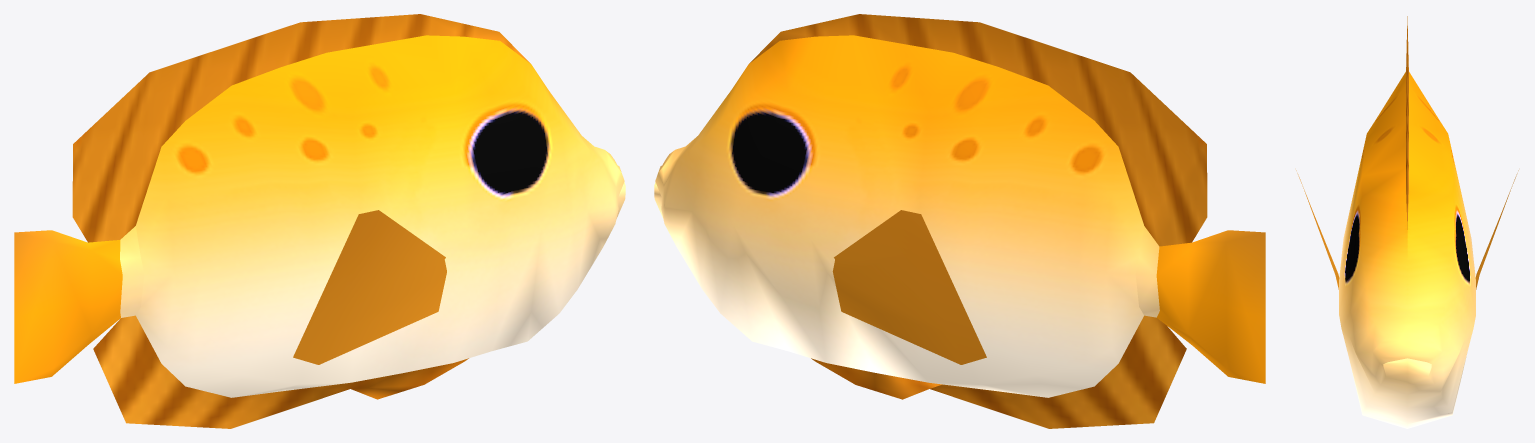
The model's file is orange_fish.glb.
3 renders of one model, left to right at view 1: azimuth 30°, elevation 25°; view 2: azimuth 150°, elevation 25°; view 3: azimuth 270°, elevation 25°, orthographic. The views are drawn at different scales.
Visible parts, largest first — view 1: Orange_Fish; view 2: Orange_Fish; view 3: Orange_Fish.
Boxes of the visible parts, x1,y1,x2,y2 form: Orange_Fish: (14, 14, 625, 428); Orange_Fish: (654, 14, 1265, 428); Orange_Fish: (1296, 16, 1518, 428).
Bounding box in the file's own units: 0.9812 × 0.612 × 0.3977.
1 material, 1 textured.
